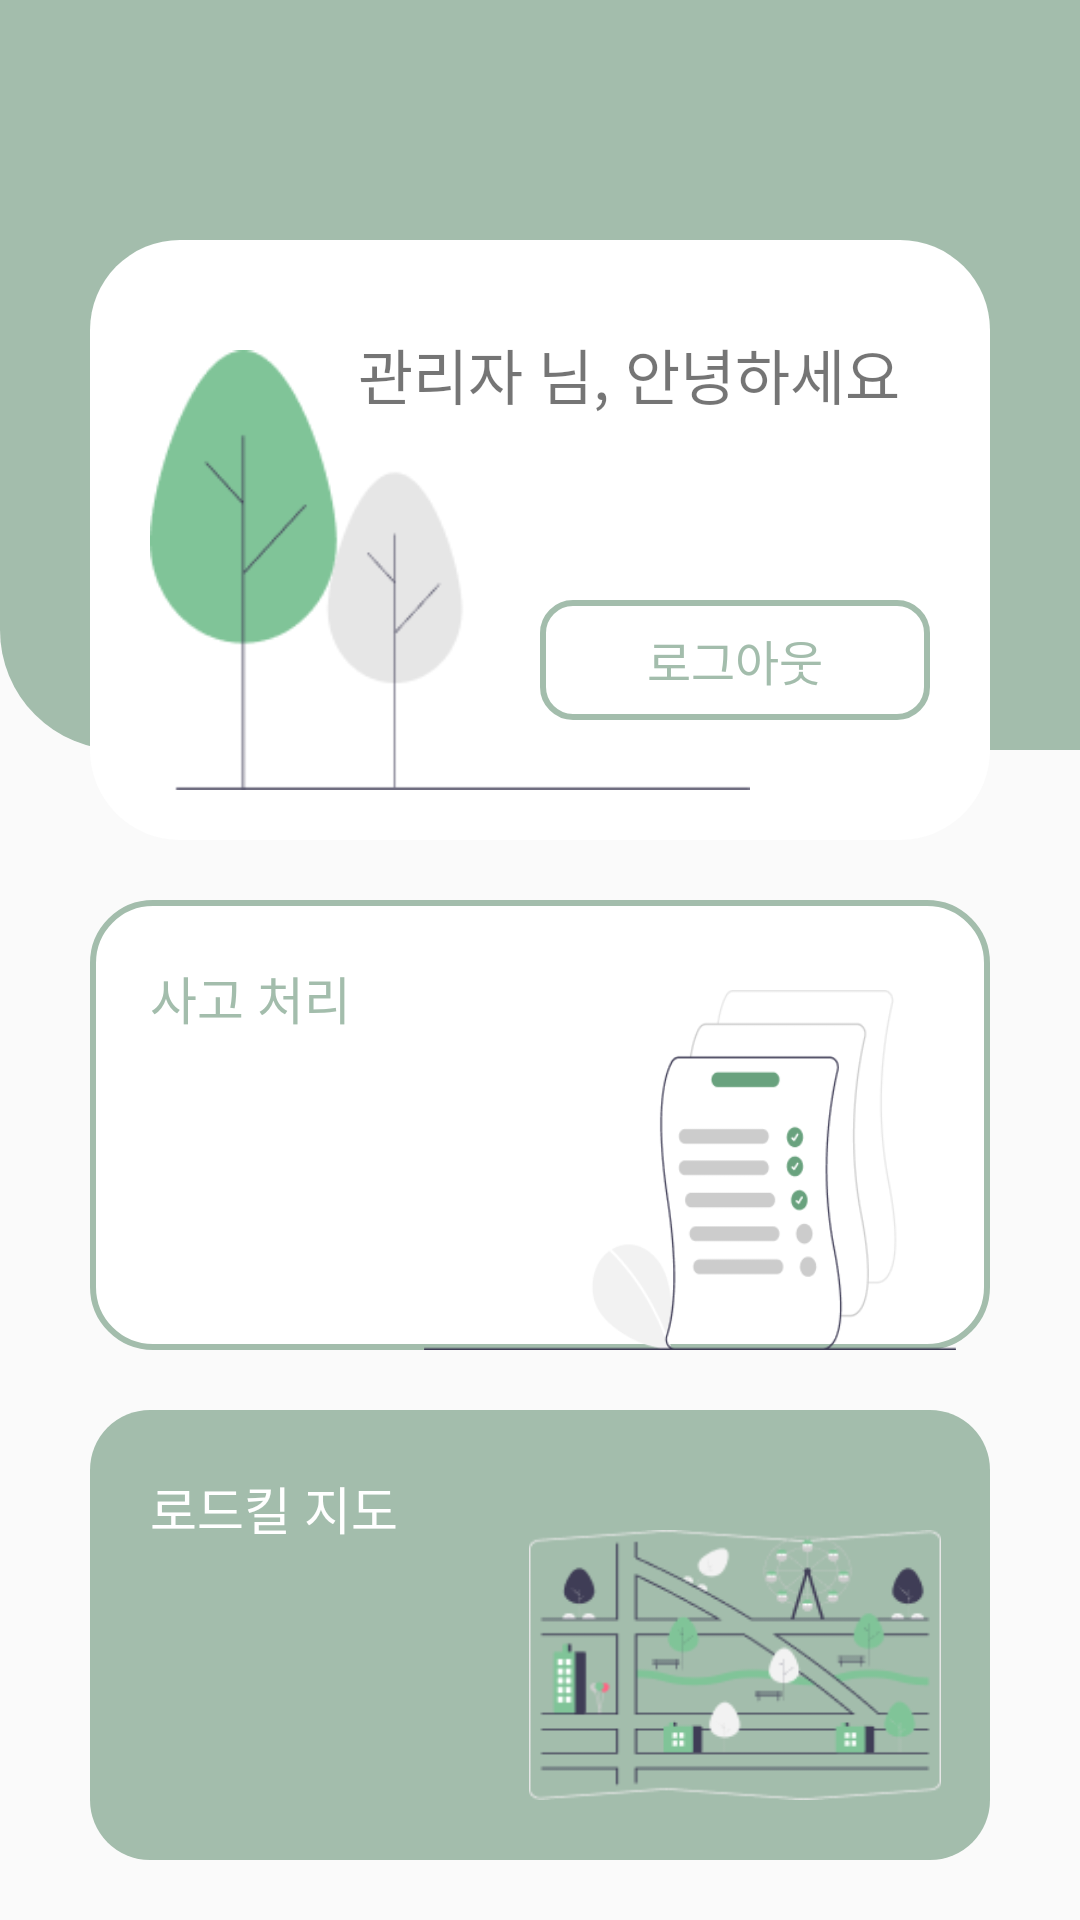

Icons on this 1080px x 1920px Android screen, each with its box as bbox=[x1, y1, x2, y2]:
history: bbox=[679, 1072, 816, 1277]
